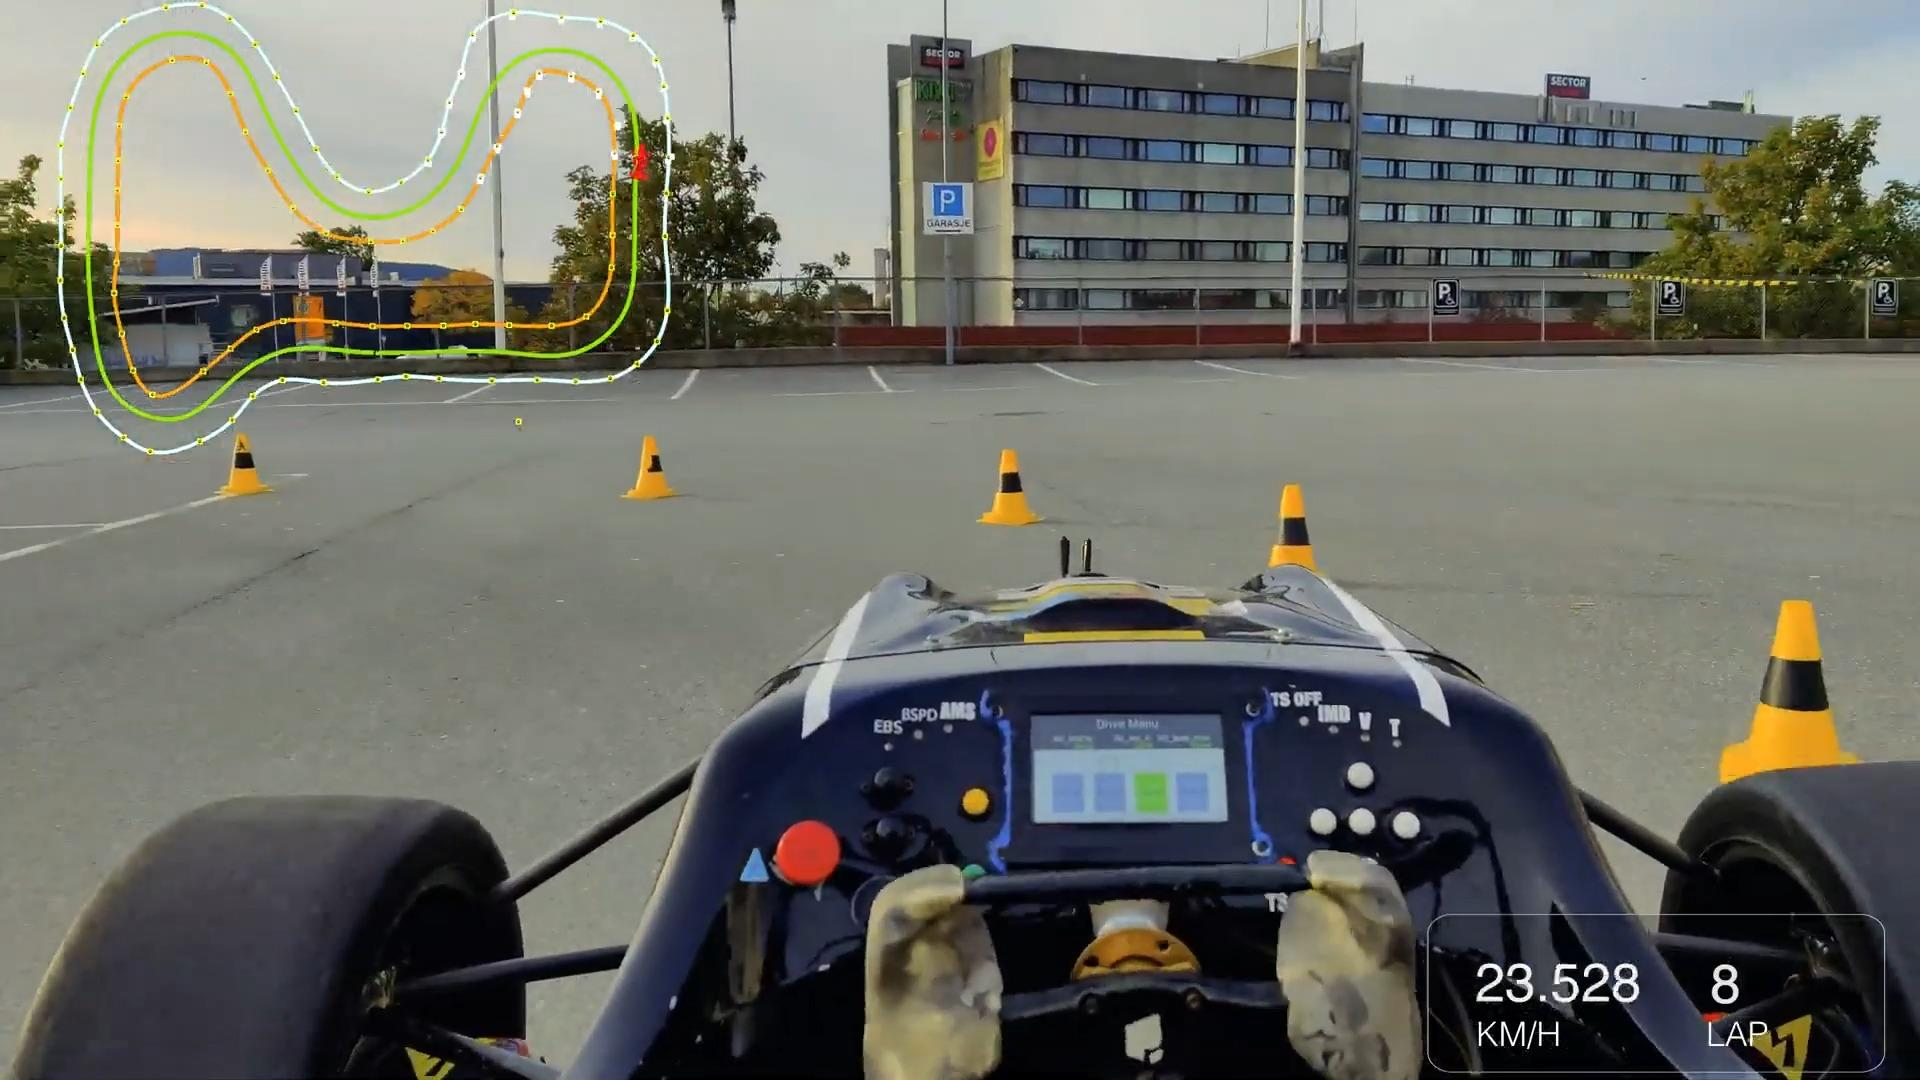yellow_cone: (1700, 589, 1865, 796), (1265, 477, 1325, 603), (967, 443, 1046, 529), (617, 430, 676, 502), (215, 426, 273, 498)
